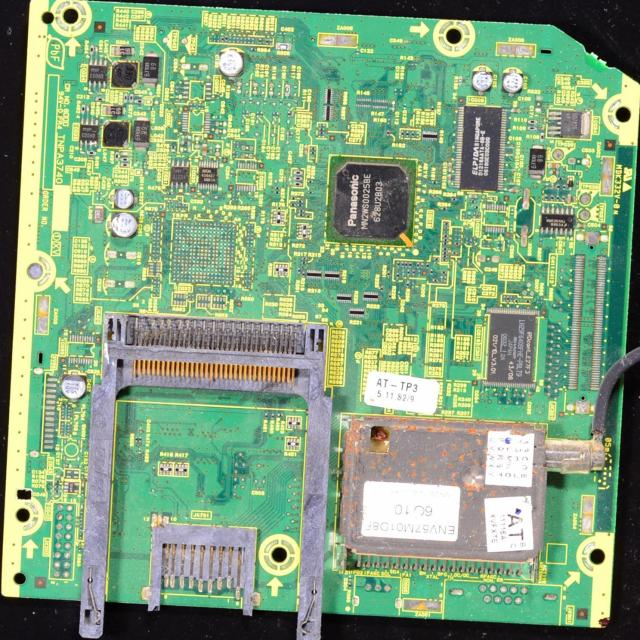Capacitor: (108, 212, 137, 240), (219, 49, 245, 76), (62, 374, 86, 403), (501, 70, 524, 96), (142, 53, 158, 85), (134, 118, 150, 150), (475, 70, 493, 96), (112, 192, 135, 208), (105, 250, 137, 260), (104, 280, 136, 289), (62, 481, 80, 494), (296, 224, 312, 238), (182, 64, 209, 71), (568, 158, 590, 166), (477, 256, 500, 263), (535, 95, 542, 115), (201, 144, 208, 157), (252, 82, 258, 96), (268, 83, 274, 97), (447, 162, 453, 175), (180, 146, 191, 153), (549, 163, 560, 170), (511, 109, 523, 115), (215, 144, 221, 156), (241, 145, 254, 150), (240, 154, 253, 159), (215, 129, 226, 134), (303, 145, 308, 156), (238, 82, 242, 95), (134, 99, 144, 104), (196, 136, 200, 148), (129, 95, 134, 104), (216, 122, 227, 126), (139, 425, 143, 435), (120, 152, 130, 156), (448, 175, 452, 185), (568, 194, 572, 203), (283, 176, 288, 183), (55, 475, 63, 479), (318, 135, 325, 139), (310, 156, 317, 160), (54, 495, 62, 498), (318, 124, 325, 126)
Connector: (341, 406, 602, 585)
IC: (330, 154, 415, 248), (458, 106, 506, 191), (486, 307, 536, 386), (548, 108, 590, 140), (540, 207, 575, 236), (87, 57, 108, 89), (198, 160, 217, 192), (170, 159, 189, 190), (80, 119, 99, 148)
Resistor Network: (158, 460, 174, 478), (270, 209, 286, 226), (298, 223, 312, 240), (174, 462, 190, 476), (274, 263, 290, 276), (324, 88, 336, 105), (323, 106, 335, 123), (286, 415, 300, 429), (324, 271, 341, 282), (348, 308, 366, 318), (306, 269, 322, 280), (422, 131, 439, 141), (364, 292, 381, 302), (287, 436, 300, 449), (337, 292, 352, 303), (276, 43, 292, 51), (292, 181, 306, 187), (528, 125, 538, 132), (293, 169, 304, 175), (285, 85, 290, 97), (95, 97, 107, 102), (528, 119, 538, 125), (123, 92, 128, 103), (114, 151, 119, 162), (409, 130, 415, 139), (86, 151, 96, 156), (452, 241, 461, 246), (459, 76, 463, 87), (137, 448, 142, 456), (89, 46, 94, 54), (120, 158, 130, 162), (443, 221, 451, 226), (415, 261, 420, 269), (387, 270, 391, 280), (506, 295, 511, 303), (276, 413, 284, 418), (138, 435, 142, 444), (400, 130, 404, 139), (541, 132, 544, 144), (301, 271, 305, 280), (405, 130, 410, 137), (307, 191, 314, 196), (432, 278, 439, 283), (134, 436, 138, 444), (53, 490, 61, 494), (386, 130, 390, 138), (290, 196, 298, 200), (297, 204, 305, 208), (442, 238, 450, 242), (440, 270, 448, 274), (395, 272, 399, 280), (406, 281, 410, 289), (524, 300, 532, 304), (82, 104, 85, 114), (120, 164, 130, 167), (293, 177, 303, 180), (55, 485, 62, 489), (308, 180, 315, 184), (274, 186, 281, 190), (299, 209, 306, 213), (442, 234, 449, 238), (433, 257, 440, 261), (404, 261, 408, 268), (401, 261, 405, 268), (430, 268, 434, 275), (406, 270, 410, 277), (300, 262, 309, 265), (514, 299, 519, 304), (54, 480, 62, 483), (318, 128, 326, 131), (290, 203, 296, 207), (306, 216, 312, 220), (441, 252, 449, 255), (442, 258, 448, 262), (298, 267, 301, 275), (265, 412, 268, 420), (318, 131, 325, 134), (310, 147, 317, 150), (274, 191, 281, 194), (300, 257, 307, 260), (409, 261, 412, 268), (271, 413, 274, 420), (442, 247, 448, 250), (442, 255, 448, 258), (396, 262, 400, 266), (299, 213, 304, 216), (451, 252, 458, 254), (310, 152, 316, 154), (298, 200, 304, 202), (442, 243, 448, 245), (412, 270, 414, 276)
